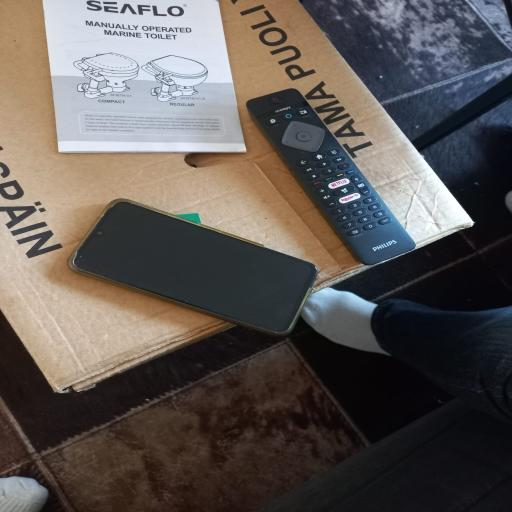phone: (69, 199, 317, 334)
